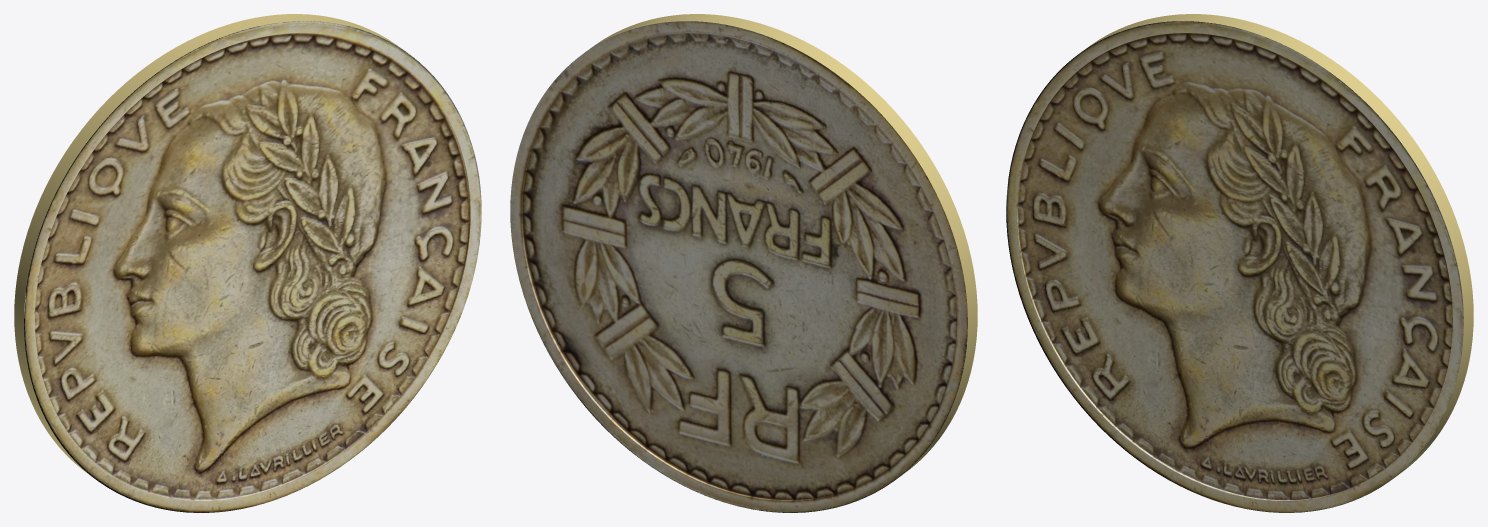
The model's file is 5_francs_1940_france.glb.
3 views of the same model, side by side, from view 1: azimuth 30°, elevation 25°; view 2: azimuth 150°, elevation 25°; view 3: azimuth 330°, elevation 25° (orthographic).
Parts seen in each view (by area): view 1: Cylinder; view 2: Cylinder; view 3: Cylinder.
Part boxes in pixels (x1,y1,x2,y2): Cylinder: [14, 14, 481, 512]; Cylinder: [510, 14, 977, 512]; Cylinder: [1006, 14, 1473, 512].
Size of the model in its own units: 62 by 62 by 2.3.
3 materials, 2 textured.
